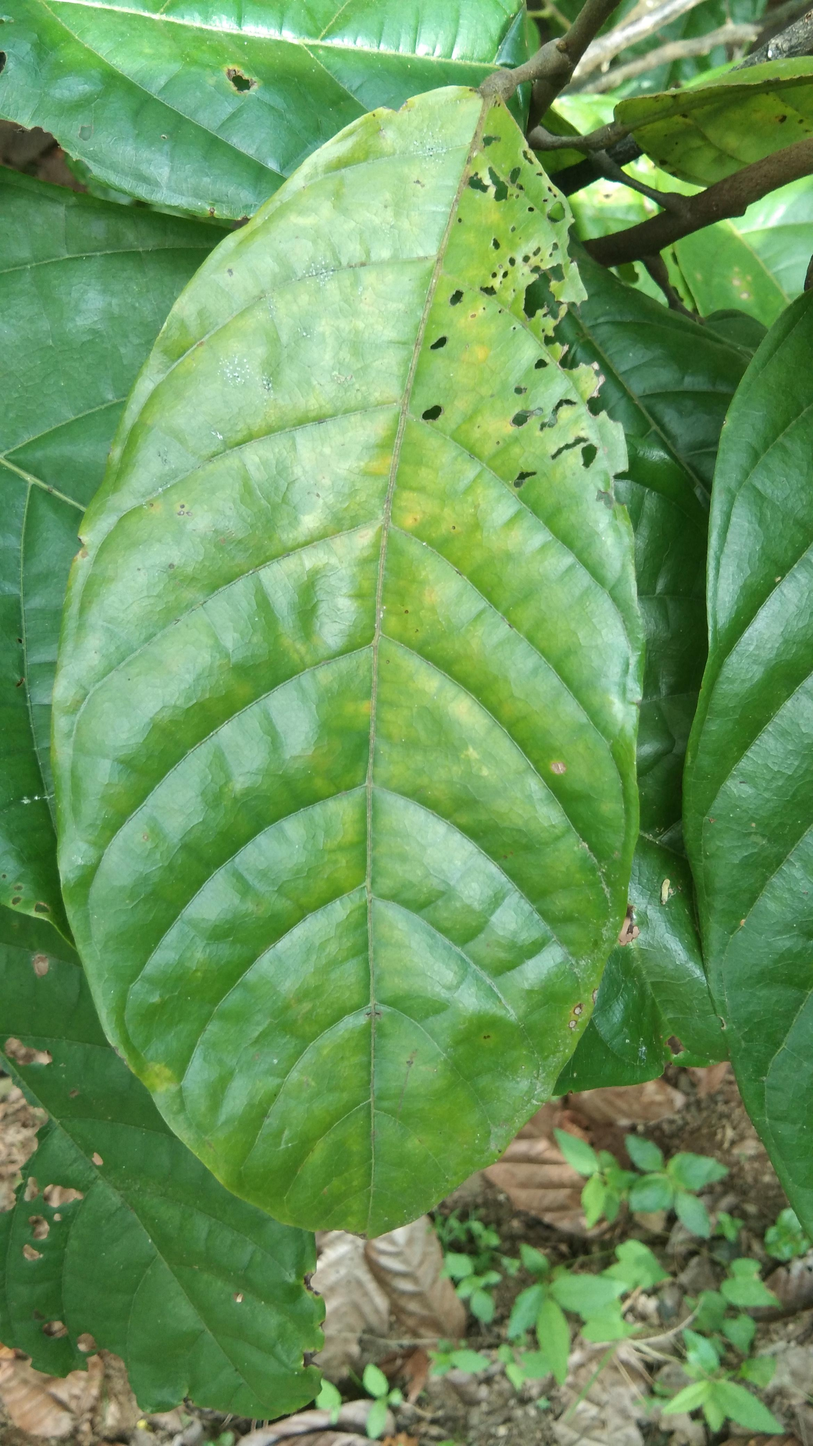deficiencia_potasio: (49, 87, 643, 1240)
